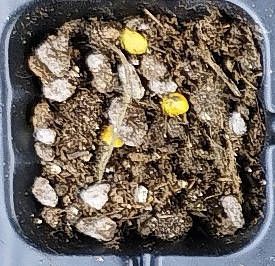pepper seed: (66, 34, 256, 152), (37, 50, 164, 199), (48, 0, 197, 55)
